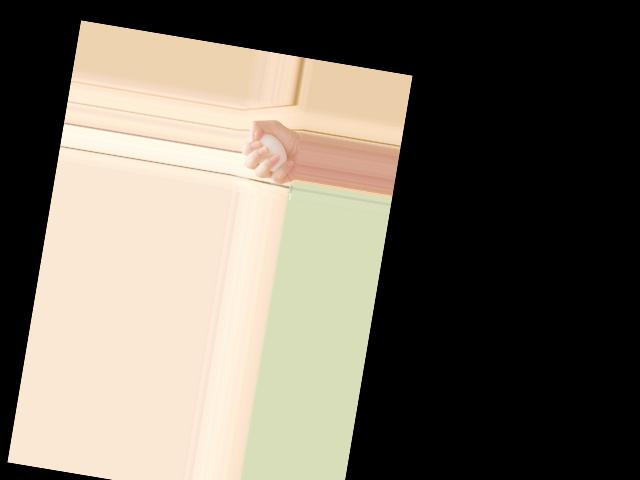egg: (255, 132, 290, 174)
